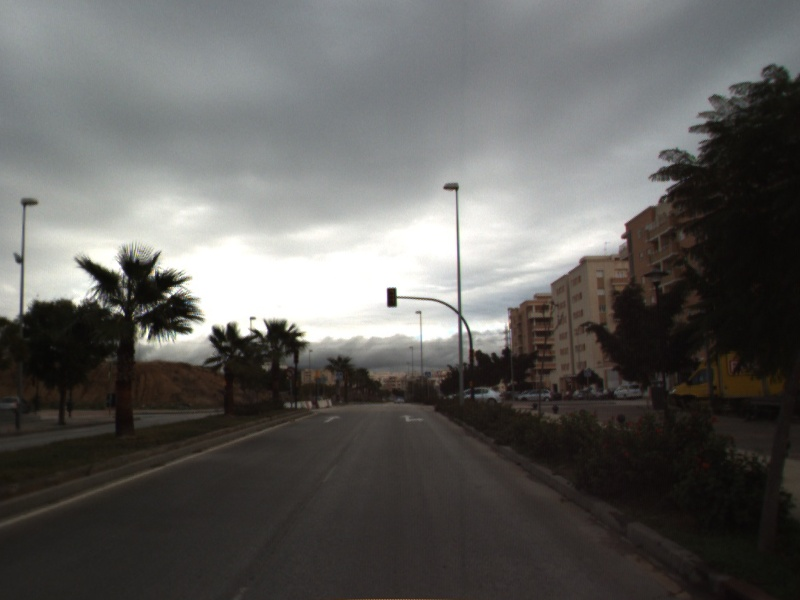STRAIGHT: (322, 413, 343, 425)
STRAIGHT_RIGHT: (398, 412, 427, 424)
